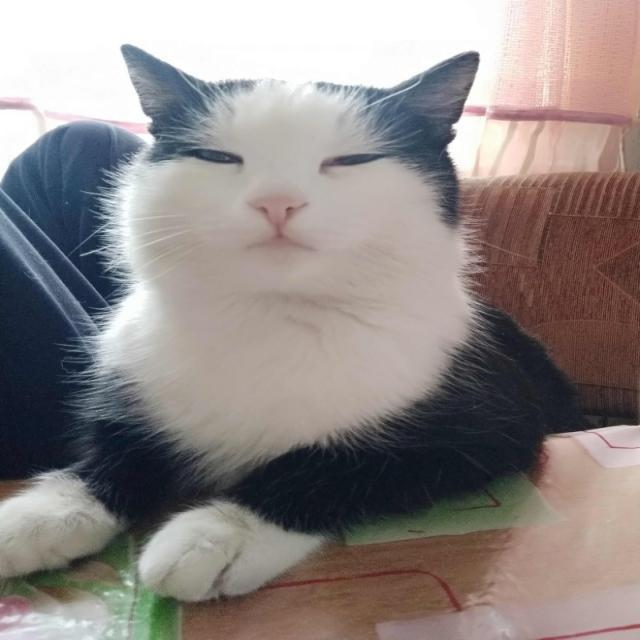cat: (47, 25, 590, 608)
